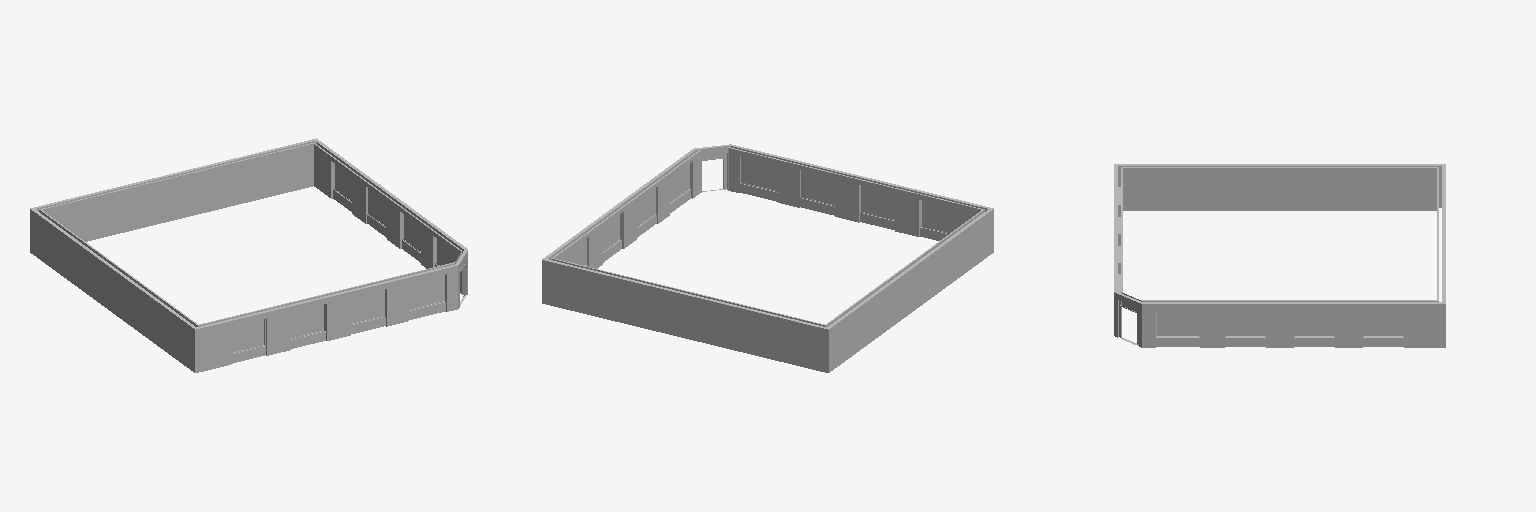
File: Building_LevelModular_Bottom_LOD0.obj
3 renders of one model, left to right at view 1: azimuth 30°, elevation 25°; view 2: azimuth 150°, elevation 25°; view 3: azimuth 270°, elevation 25°, orthographic.
Parts seen in each view (by area): view 1: Building_LevelModular_Bottom_LOD0 Building_LevelModular_Bottom; view 2: Building_LevelModular_Bottom_LOD0 Building_LevelModular_Bottom; view 3: Building_LevelModular_Bottom_LOD0 Building_LevelModular_Bottom.
Part boxes in pixels (left/top/right/bottom): Building_LevelModular_Bottom_LOD0 Building_LevelModular_Bottom: left=30, top=138, right=467, bottom=372; Building_LevelModular_Bottom_LOD0 Building_LevelModular_Bottom: left=542, top=144, right=993, bottom=372; Building_LevelModular_Bottom_LOD0 Building_LevelModular_Bottom: left=1114, top=164, right=1445, bottom=347.
Bounding box in the file's own units: 2400 × 350 × 2400.